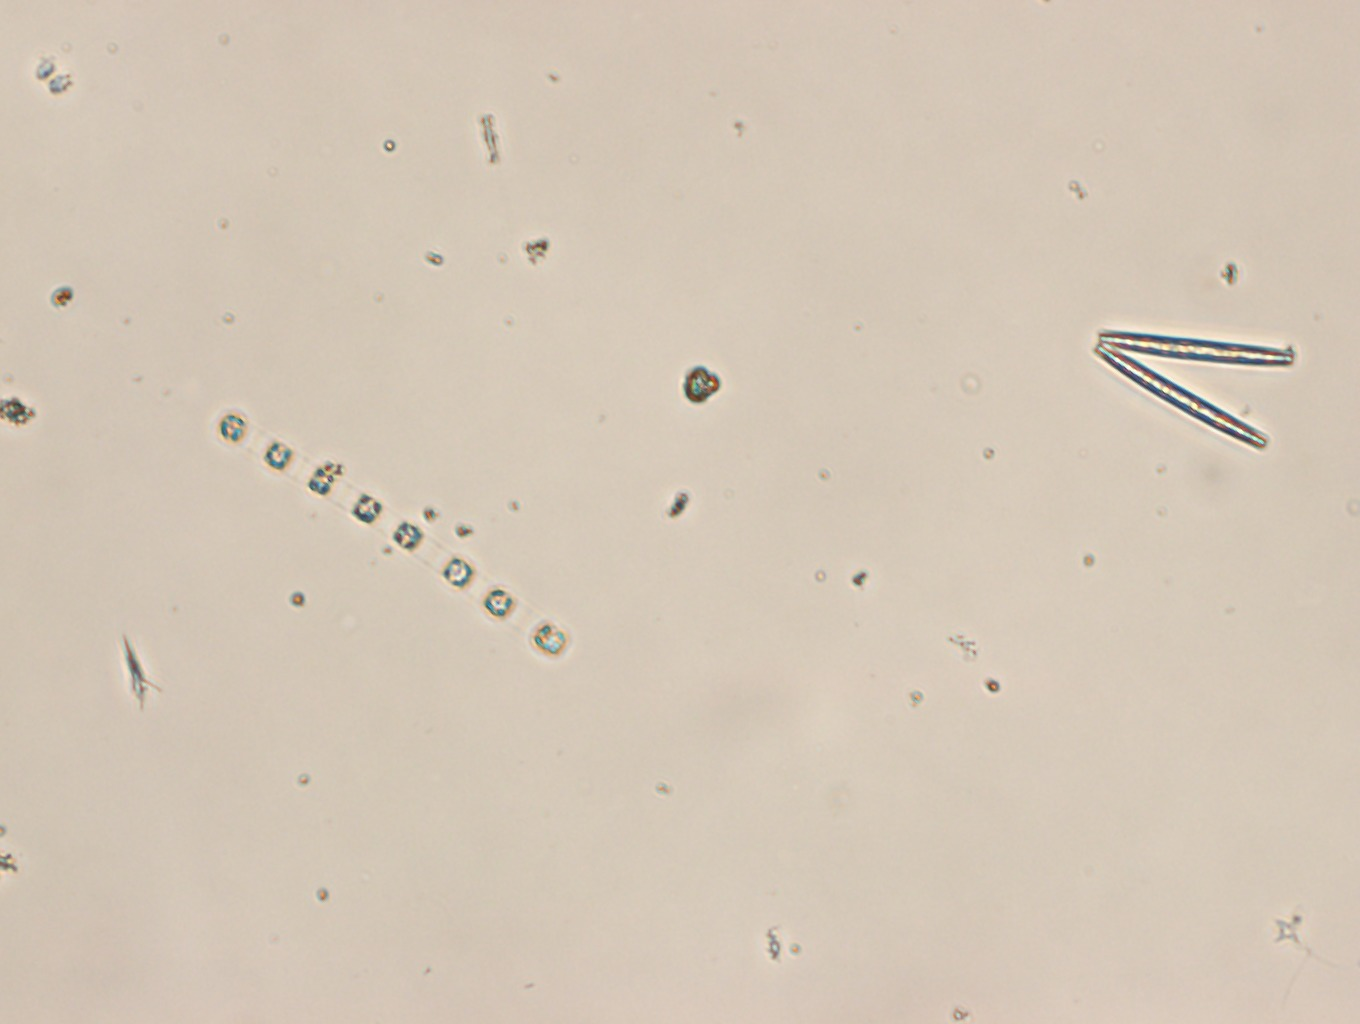skeletonema: (201, 406, 573, 667)
thalassionema nitzschioides: (1091, 326, 1297, 454)
